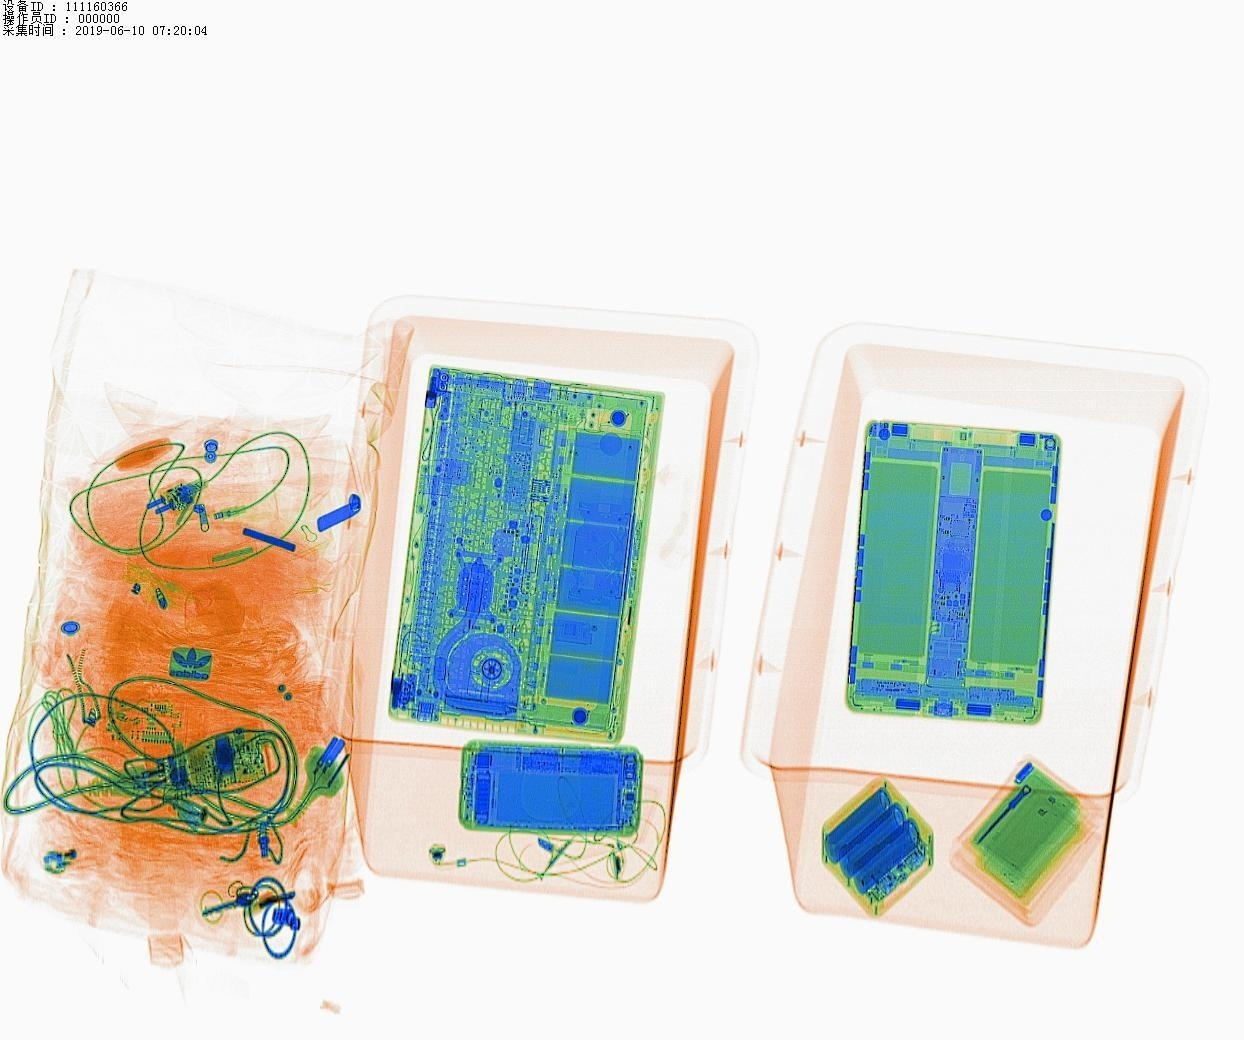NonmetallicFire: (30, 832, 131, 891)
